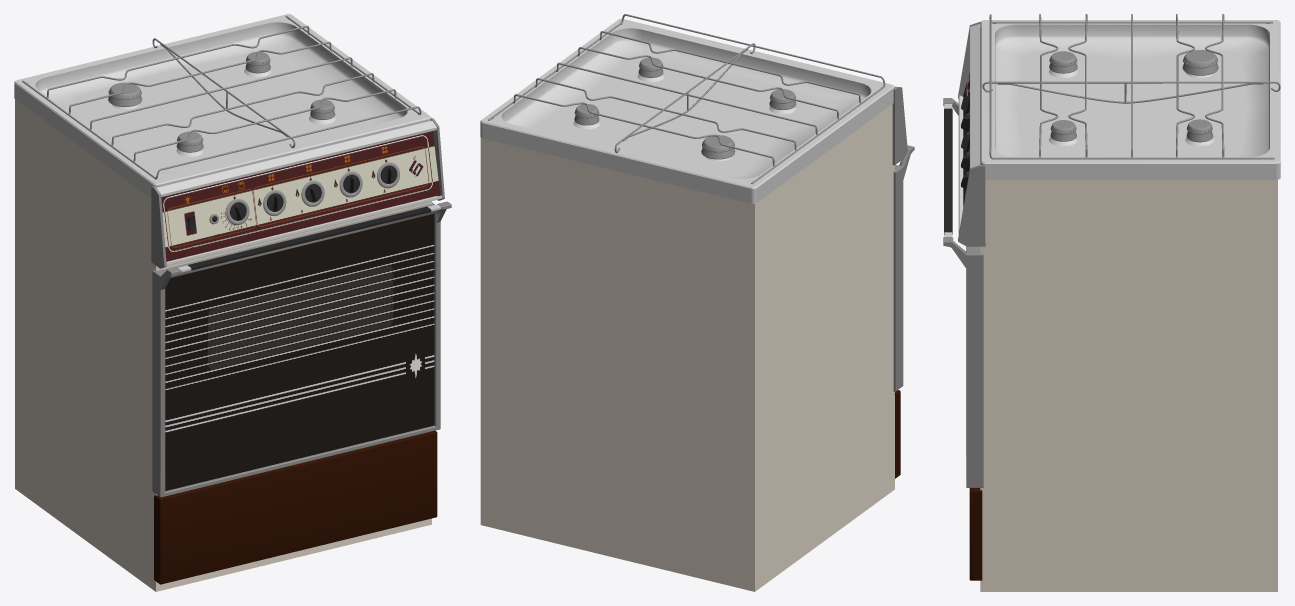
Rendered from oven2.fbx.
3 renders of one model, left to right at view 1: azimuth 30°, elevation 25°; view 2: azimuth 150°, elevation 25°; view 3: azimuth 270°, elevation 25°, orthographic. The views are drawn at different scales.
Parts seen in each view (by area): view 1: Rectangle11; view 2: Rectangle11; view 3: Rectangle11.
Boxes of the visible parts, bbox=[...] form: Rectangle11: bbox=[14, 14, 451, 591]; Rectangle11: bbox=[480, 14, 914, 591]; Rectangle11: bbox=[943, 14, 1280, 591].
Bounding box in the file's own units: 25.41 × 36.09 × 25.09.
Materials: 8 (2 with a texture image).
